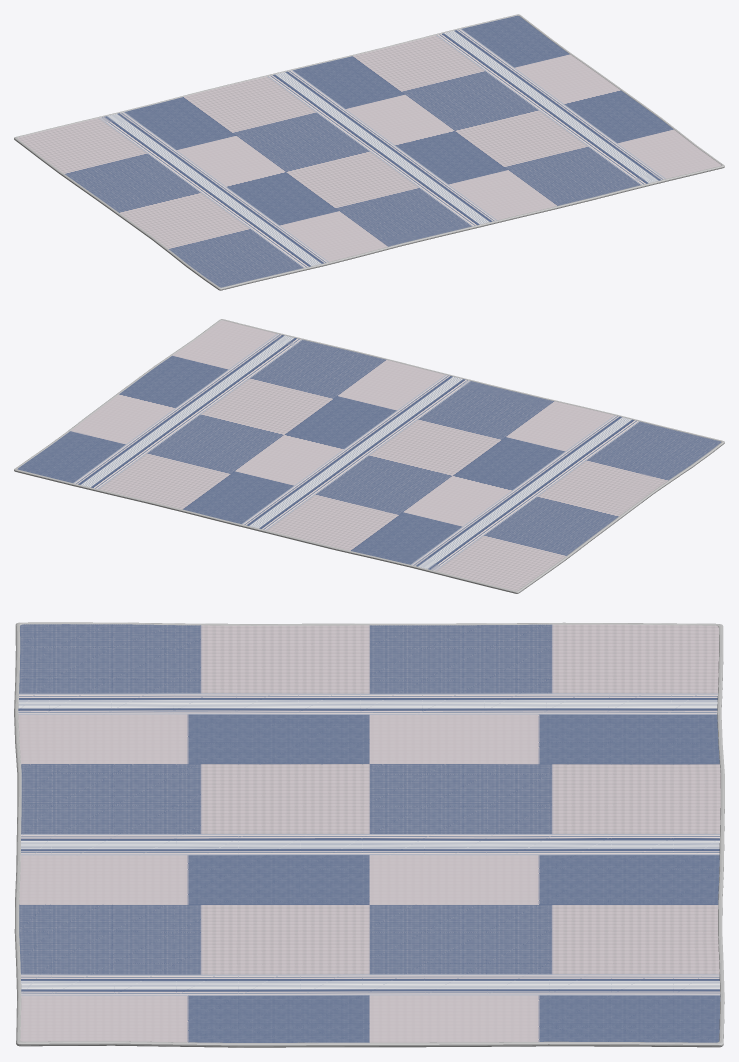
Rendered from Carpet_Kollund1.FBX.
3 renders of one model, top to bottom at view 1: azimuth 30°, elevation 25°; view 2: azimuth 150°, elevation 25°; view 3: azimuth 270°, elevation 25°, orthographic. The views are drawn at different scales.
Visible parts, largest first — view 1: ChamferBox080, bian; view 2: ChamferBox080, bian; view 3: ChamferBox080, bian.
Part boxes in pixels (bbox=[...]): ChamferBox080: bbox=[17, 15, 721, 287]; bian: bbox=[14, 14, 724, 290]; ChamferBox080: bbox=[17, 320, 721, 590]; bian: bbox=[14, 319, 724, 593]; ChamferBox080: bbox=[18, 624, 720, 1042]; bian: bbox=[14, 622, 724, 1047].
Size of the model in its own units: 2424 by 10.89 by 1723.
